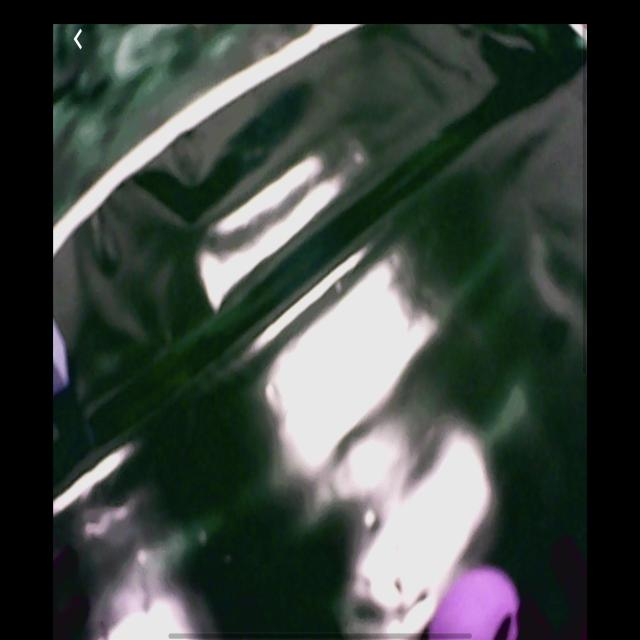ball: (433, 570, 525, 639)
